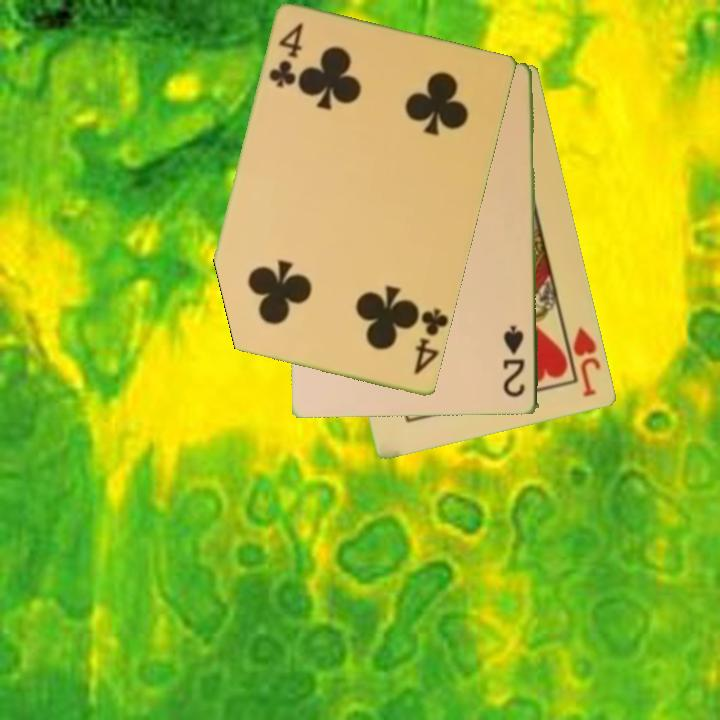2s: (500, 322, 529, 400)
4c: (266, 19, 307, 91), (411, 305, 450, 379)
Jh: (560, 321, 604, 400)
